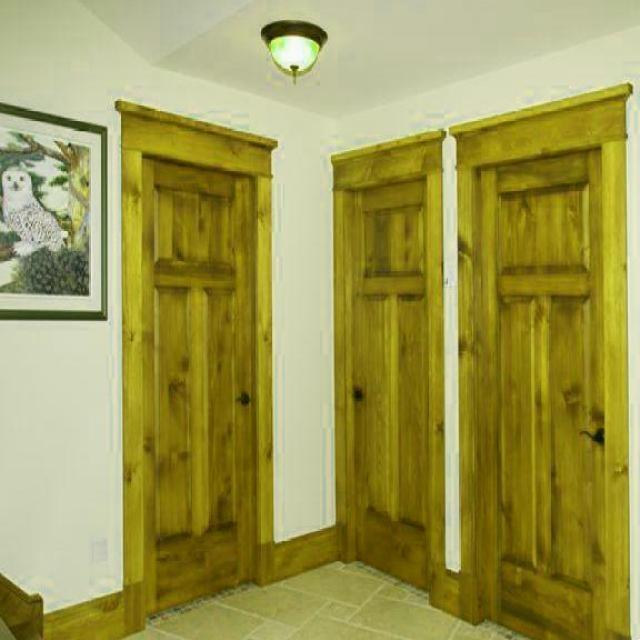door: (456, 75, 640, 624), (112, 84, 284, 624), (331, 107, 451, 606)
